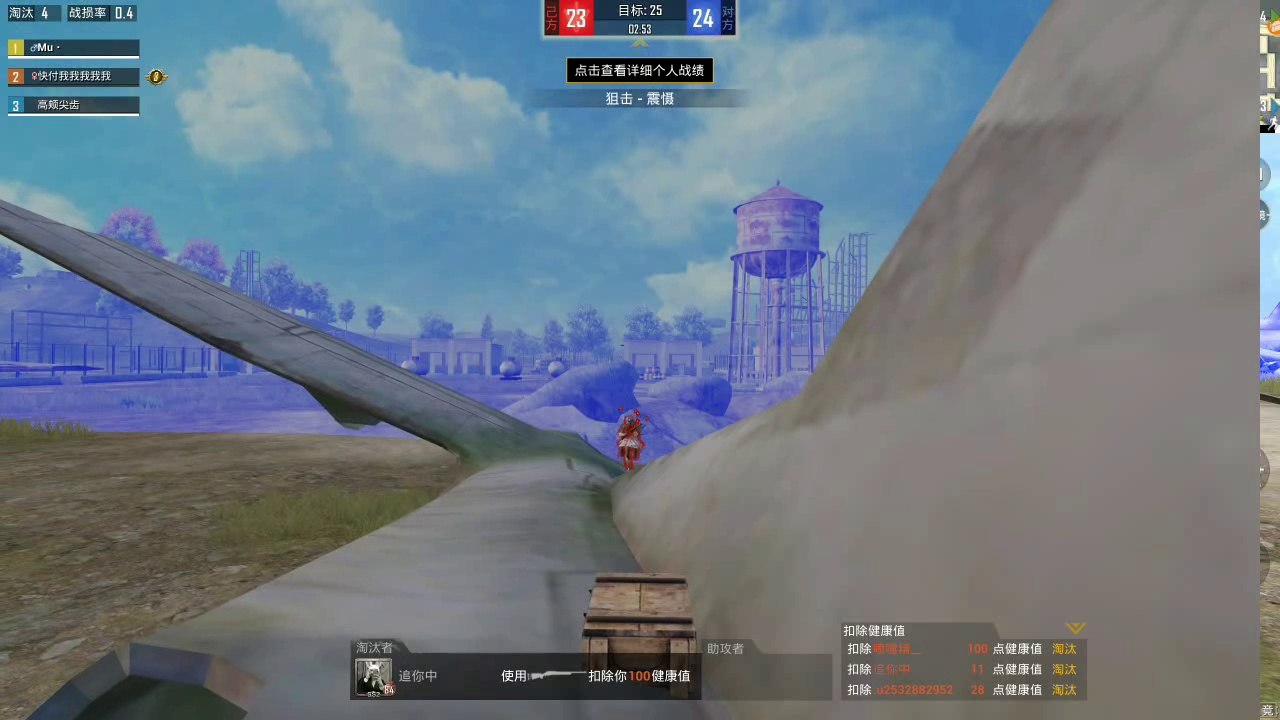enemy: (616, 411, 642, 467)
